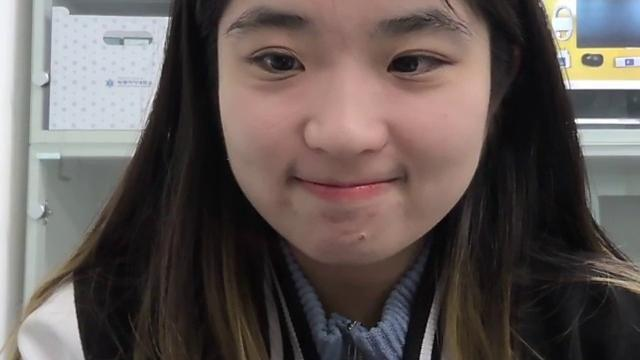eye: (275, 54, 292, 71), (395, 57, 414, 72)
iris: (391, 55, 438, 72), (262, 53, 300, 72)
